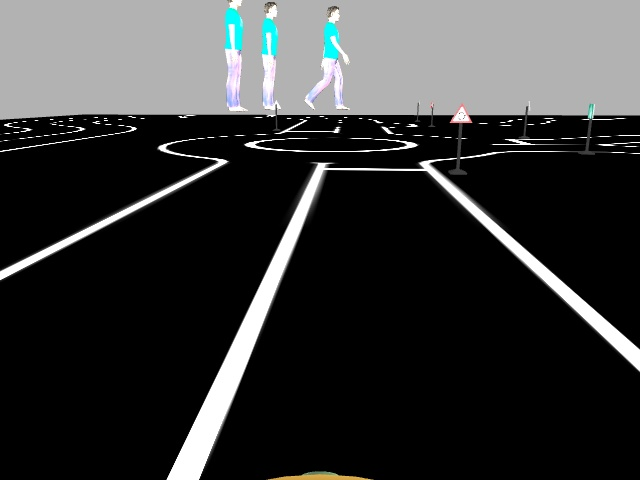Roundabout: (446, 101, 474, 125)
